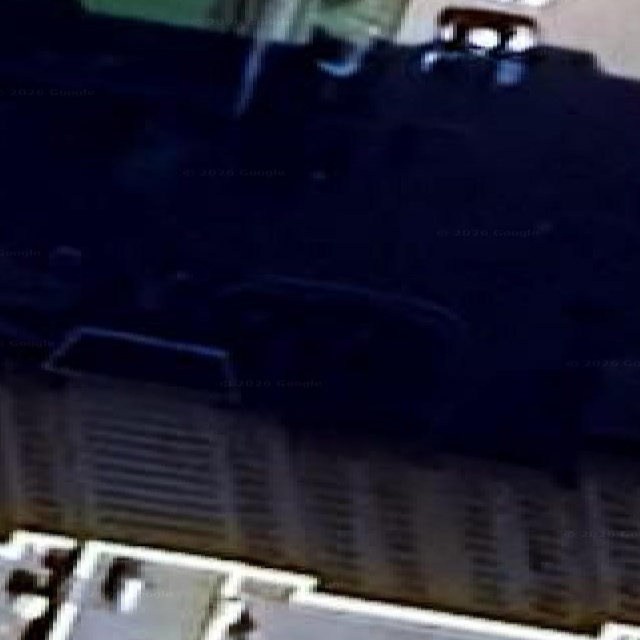car: (421, 8, 539, 85), (313, 25, 378, 78)
